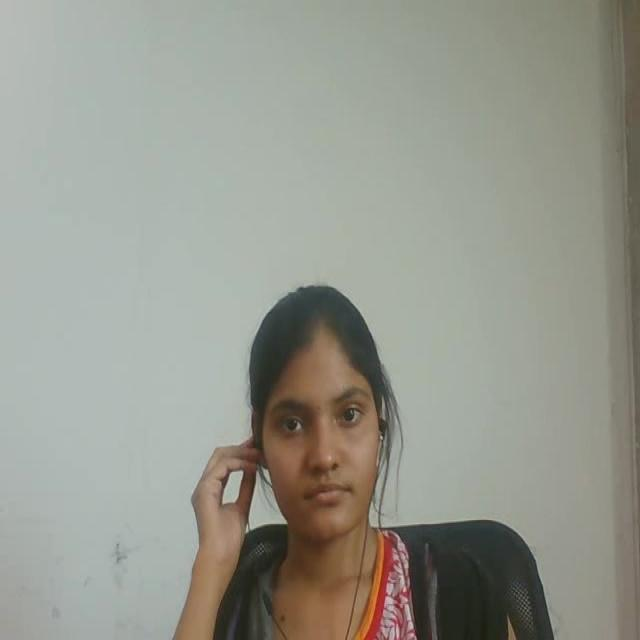Engaged: (224, 257, 414, 568)
